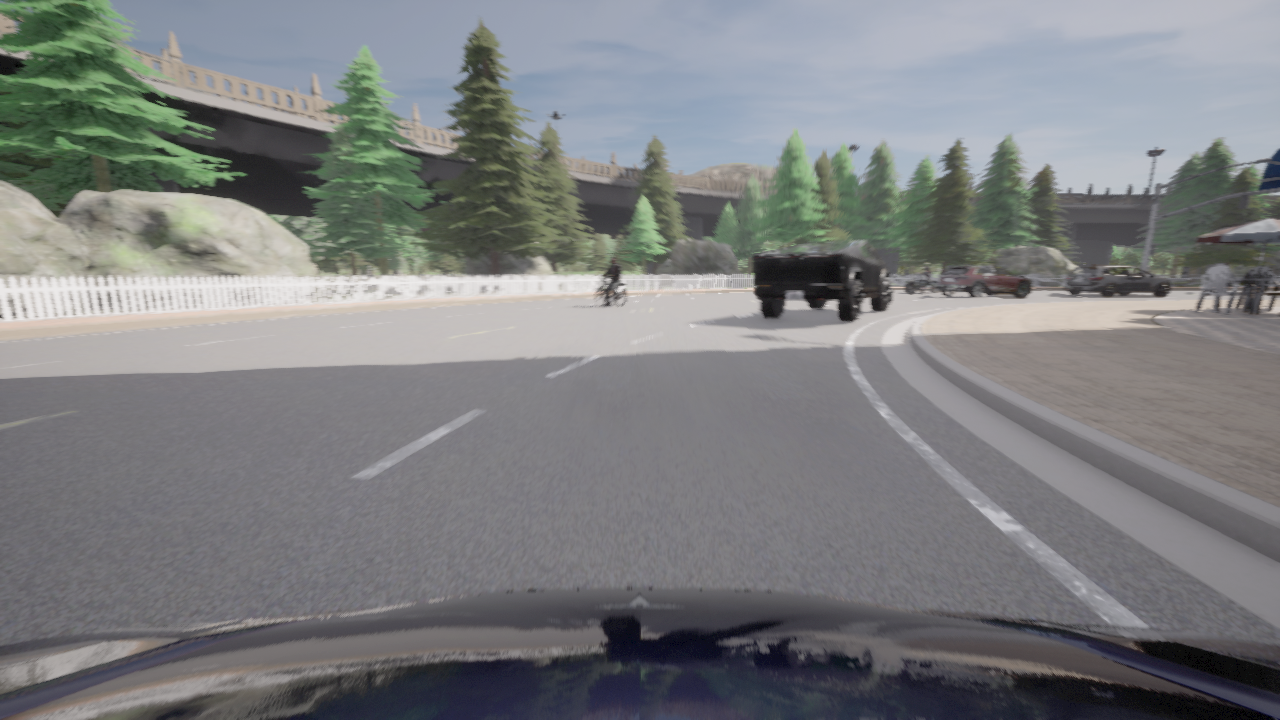cyclist: (0, 588, 1279, 719), (754, 241, 893, 322), (1065, 265, 1170, 296), (936, 265, 1031, 297), (596, 275, 626, 307), (905, 272, 938, 293)
